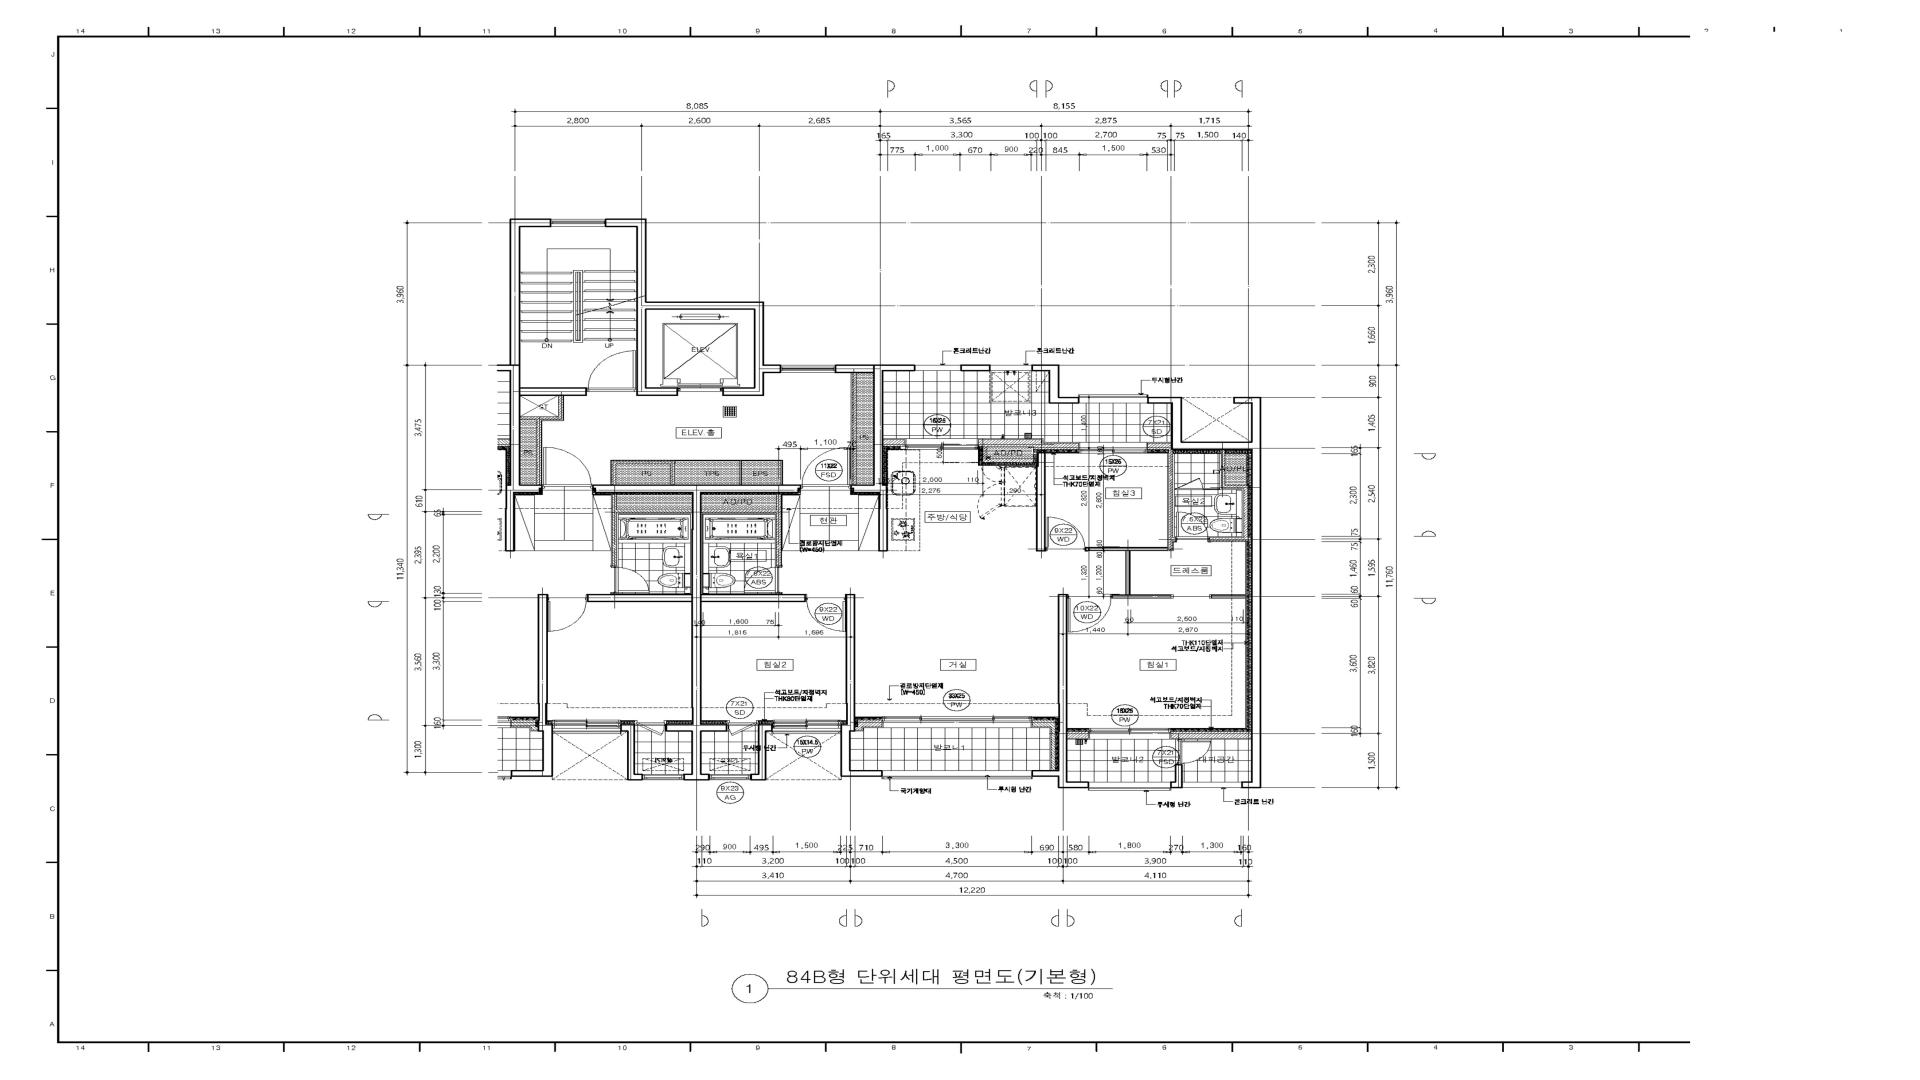door: (585, 350, 636, 396), (543, 448, 592, 490), (801, 448, 850, 490), (1067, 594, 1112, 632), (806, 594, 845, 632), (1046, 516, 1086, 551), (745, 567, 782, 594), (1176, 513, 1209, 542), (1175, 740, 1212, 764), (727, 720, 758, 736)
wall: (592, 484, 801, 781), (1148, 397, 1262, 788), (605, 218, 781, 396), (510, 219, 587, 493), (835, 364, 915, 493), (702, 494, 782, 567), (1086, 547, 1173, 599), (521, 396, 564, 484), (1209, 454, 1252, 541), (1147, 442, 1176, 551), (978, 438, 1079, 463), (840, 724, 882, 777), (1031, 364, 1078, 404), (610, 460, 675, 485), (1059, 594, 1067, 771), (751, 724, 773, 781), (1031, 719, 1055, 770), (846, 595, 855, 724), (1033, 770, 1088, 789), (1036, 453, 1046, 552), (702, 594, 806, 602), (850, 373, 856, 484), (1170, 732, 1251, 740), (879, 493, 887, 551), (855, 719, 882, 731), (1171, 764, 1183, 788), (960, 364, 991, 371), (883, 438, 906, 447), (702, 724, 727, 731), (1068, 731, 1089, 739), (1209, 594, 1246, 598)
window: (882, 716, 1031, 728), (882, 770, 1033, 779), (773, 719, 841, 734), (1089, 728, 1170, 739), (905, 438, 978, 450), (1088, 781, 1171, 791), (1079, 442, 1147, 454), (1078, 395, 1148, 404), (781, 364, 835, 373), (552, 219, 605, 227), (1183, 781, 1241, 788), (710, 773, 751, 780), (915, 365, 960, 371), (991, 365, 1031, 371)
